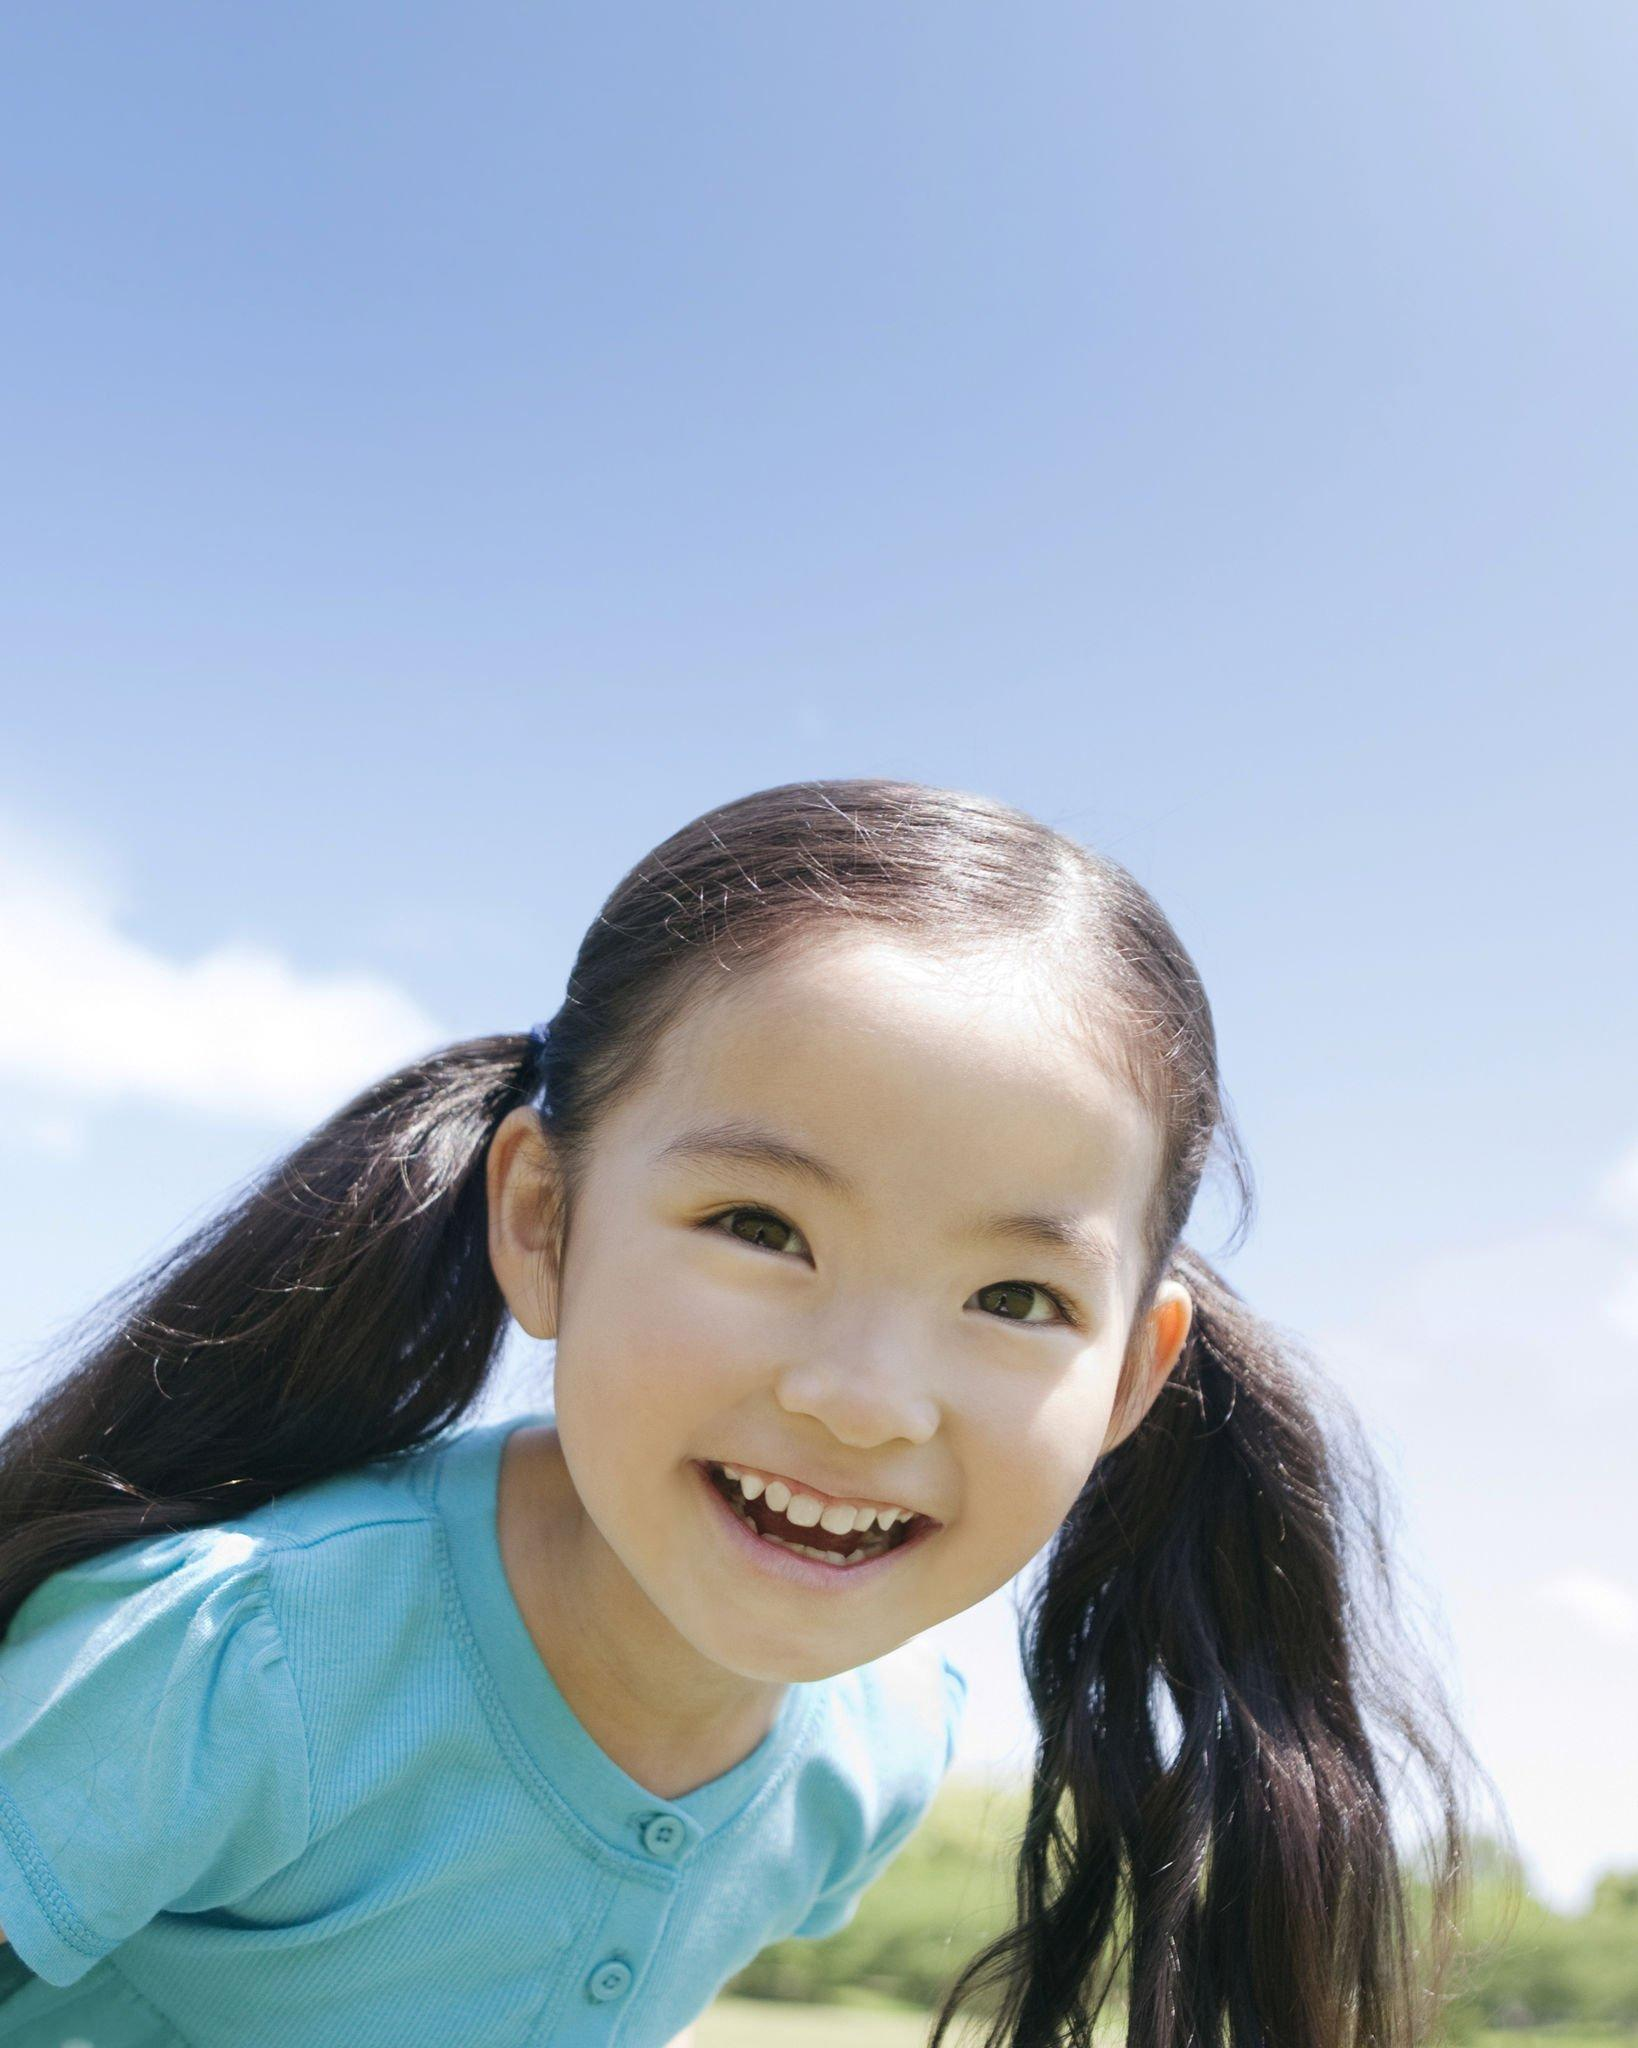Healthy: (483, 898, 1180, 1717)
